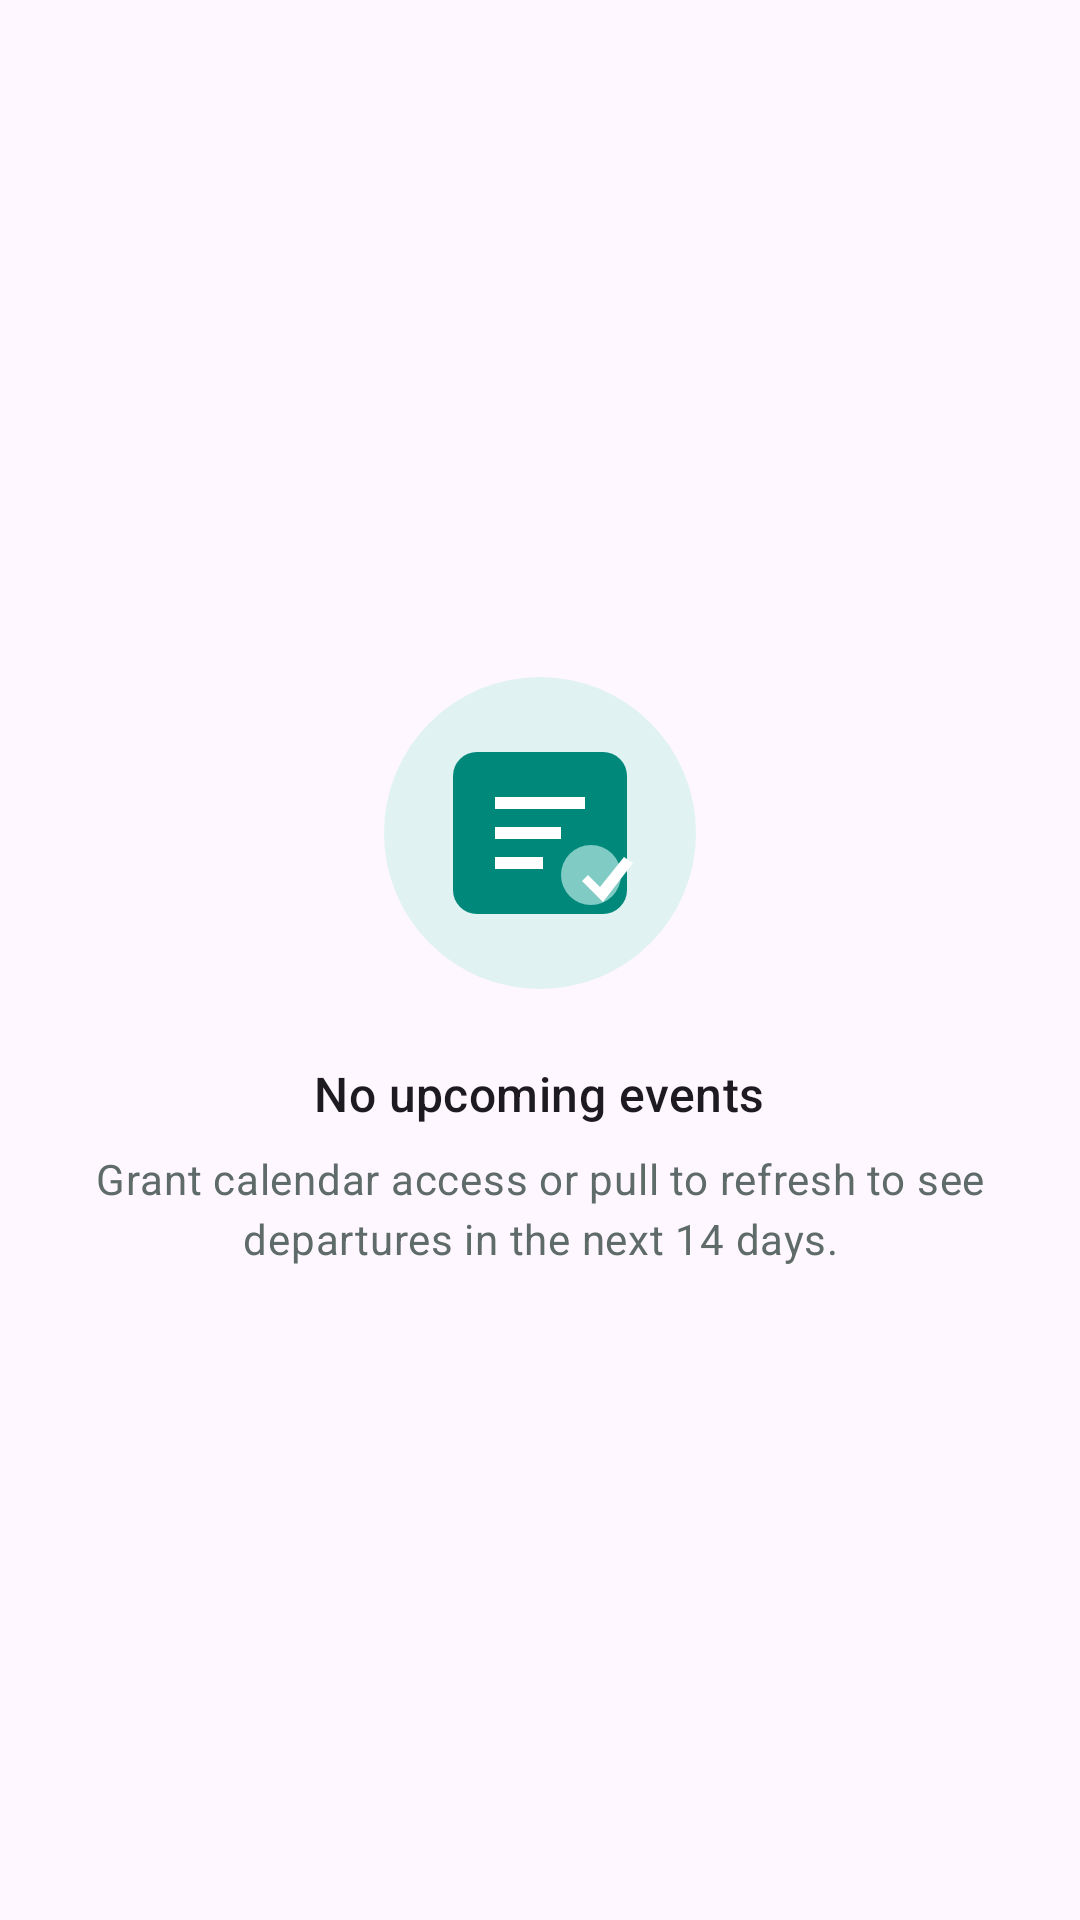

Locate icon controls on the screen. Image size 1080px×1920px, boxes as BBox(x1, y1, x2, y2).
empty state: BBox(384, 677, 696, 989)
